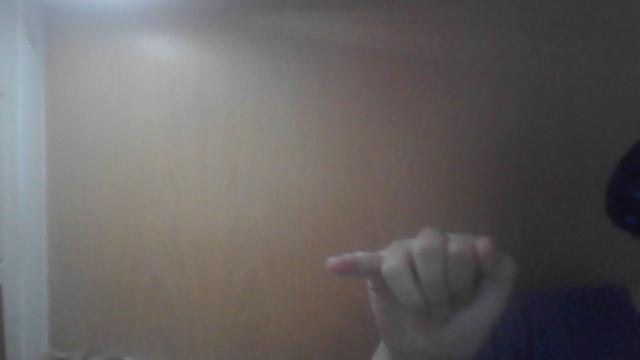Right: (316, 234, 512, 360)
